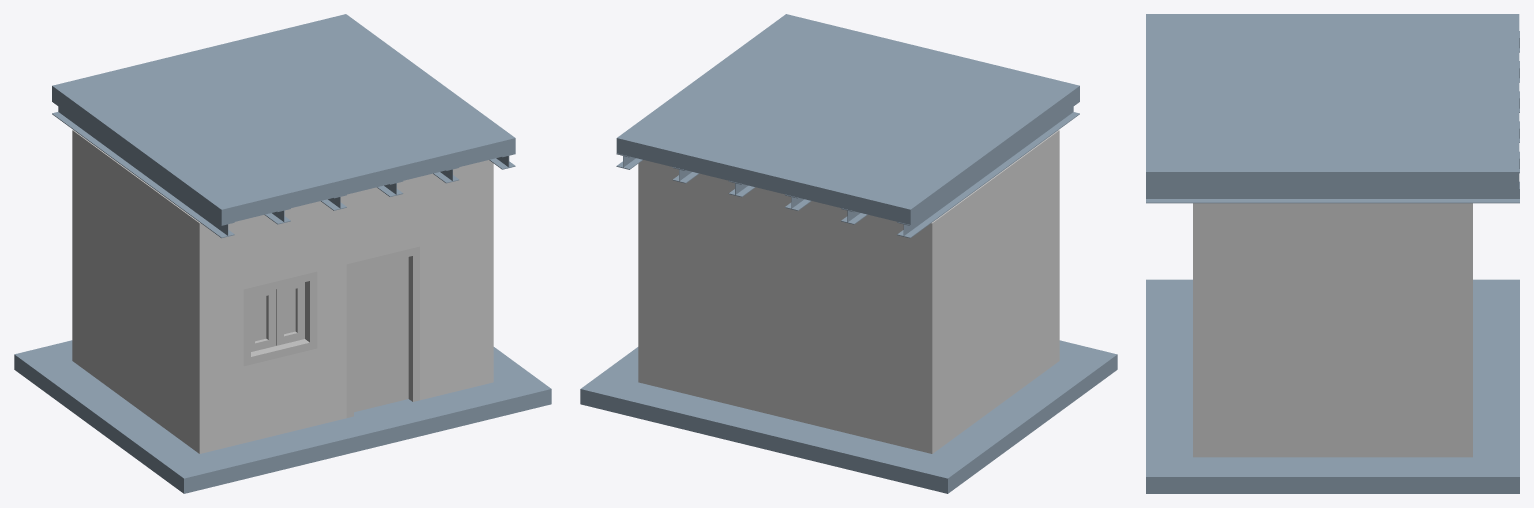
File: arch_eg.glb
3 views of the same model, side by side, from view 1: azimuth 30°, elevation 25°; view 2: azimuth 150°, elevation 25°; view 3: azimuth 270°, elevation 25° (orthographic). The views are drawn at different scales.
Parts seen in each view (by area): view 1: walls, roof_slab, floor_slab, Door, Window, beam_array; view 2: walls, roof_slab, floor_slab, beam_array; view 3: walls, roof_slab, floor_slab, beam_array.
Boxes of the visible parts, x1,y1,x2,y2 form: walls: (72,130,493,453); roof_slab: (52,14,515,224); floor_slab: (14,340,551,493); Door: (346,246,419,417); Window: (243,271,317,366); beam_array: (52,101,515,238); walls: (638,130,1059,453); roof_slab: (616,14,1079,224); floor_slab: (580,340,1117,493); beam_array: (616,101,1079,238); walls: (1193,203,1472,457); roof_slab: (1146,14,1519,188); floor_slab: (1146,279,1519,493); beam_array: (1146,31,1519,203).
Bounding box in the file's own units: 5 × 3.58 × 4.
